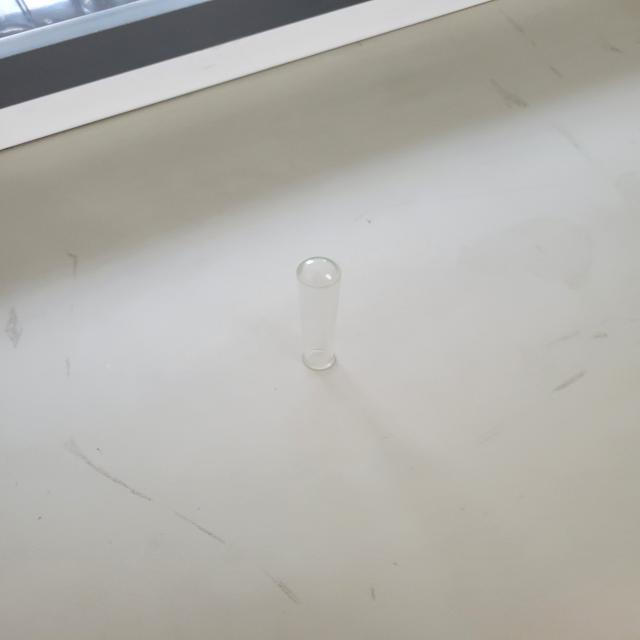Test_Tube: (250, 229, 402, 394)
